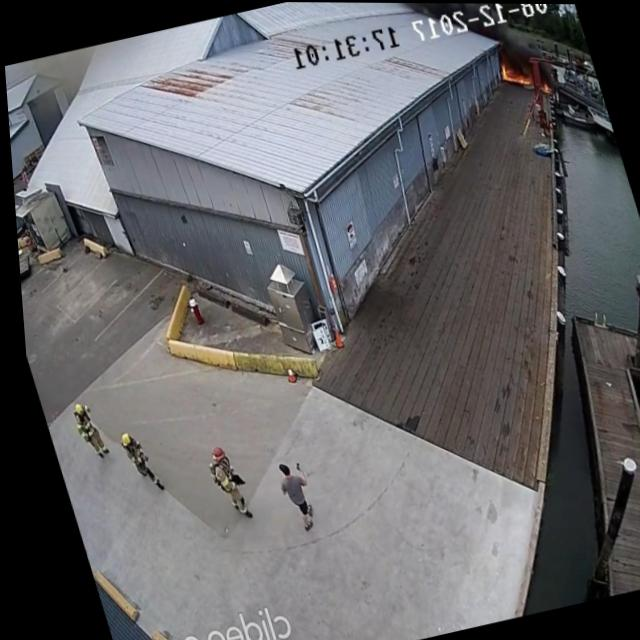fire: (495, 54, 532, 92), (538, 78, 550, 93)
